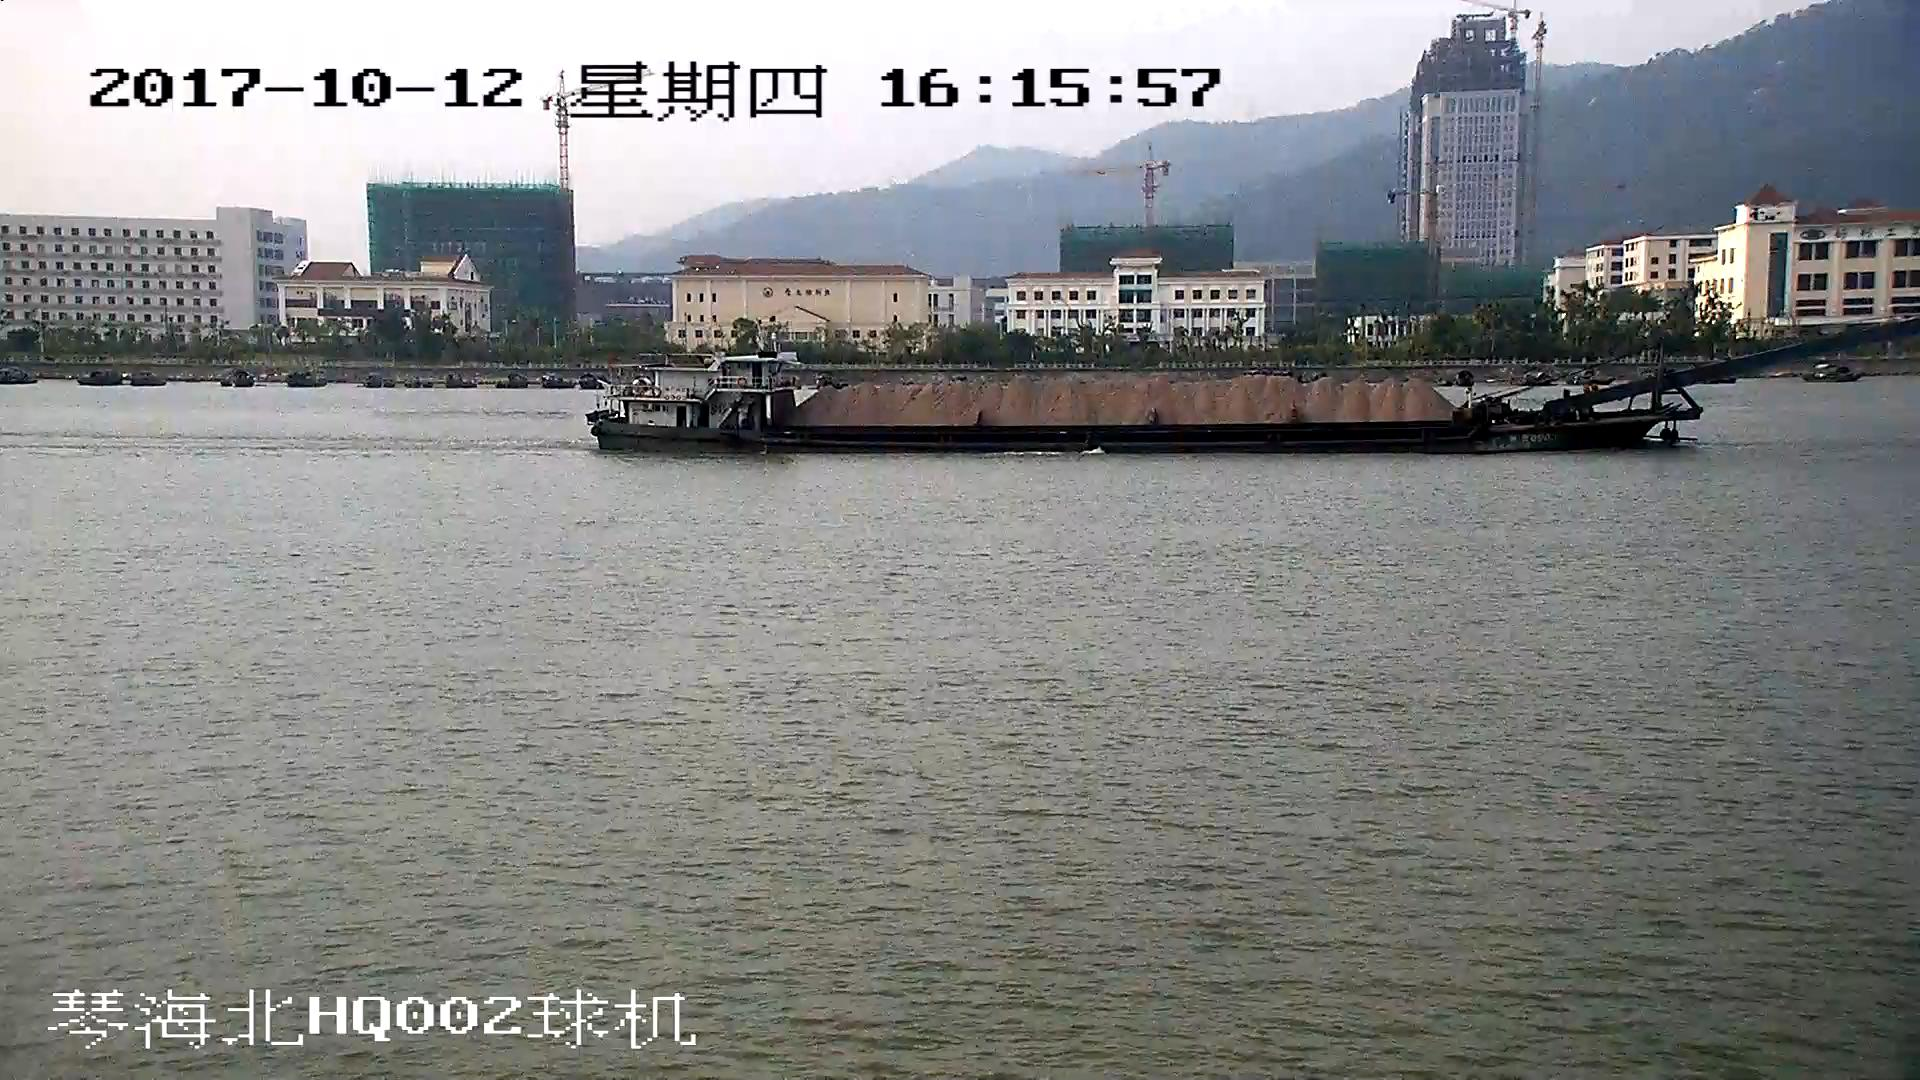ore carrier: (593, 318, 1920, 452)
